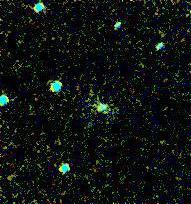star: (6, 29, 36, 59)
